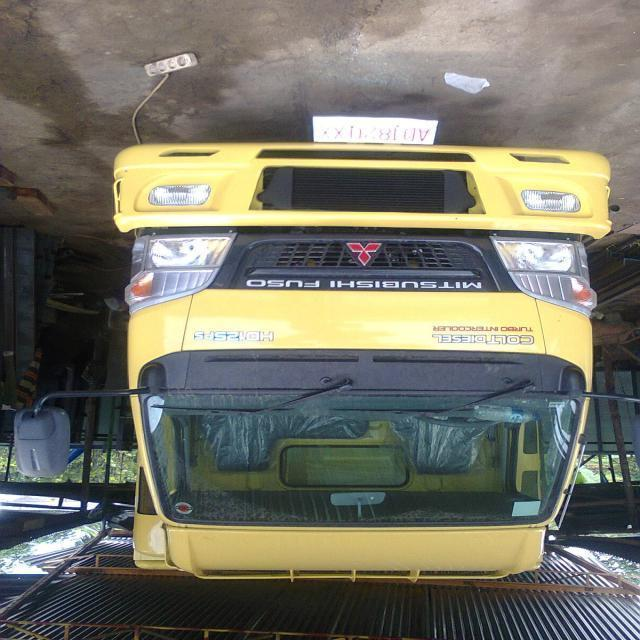truck: (12, 131, 608, 578)
